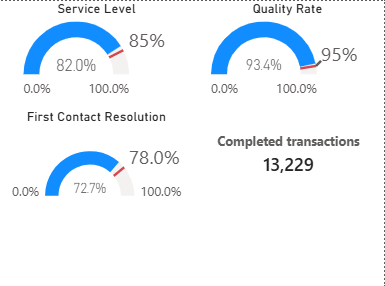

The page's visual inventory and layout, read from the dashboard file:
{"tool":"powerbi","page":{"name":"Tooltip - Team","canvas":[320,240],"ordinal":3},"visuals":[{"type":"gauge","title":"Service Level","fields":{"TargetValue":["Measures table.SL Target"],"Y":["Measures table.Service Level %"]},"box":[0,0,161.1,90],"z":0},{"type":"gauge","title":"Quality Rate","fields":{"TargetValue":["Measures table.quality Rate Target"],"Y":["Measures table.Quality rate %"]},"box":[158.9,0,161.1,90],"z":1000},{"type":"gauge","title":"First Contact Resolution","fields":{"TargetValue":["Measures table.First contact Res Target"],"Y":["Measures table.First contact resolution %"]},"box":[0,90,161,90],"z":2000},{"type":"cardVisual","fields":{"Data":["Measures table.Completed transactions"]},"box":[161,90,159,76],"z":3000}]}

Visuals, with their boxes in screenshot pixels (x1, y1, x2, y2), scaled from the page's 320x240 canvas onto the 385x286 screenshot:
"Service Level" gauge: [x1=0, y1=0, x2=194, y2=107]
"Quality Rate" gauge: [x1=191, y1=0, x2=384, y2=107]
"First Contact Resolution" gauge: [x1=0, y1=107, x2=194, y2=214]
cardVisual - Measures table.Completed transactions: [x1=194, y1=107, x2=384, y2=198]
